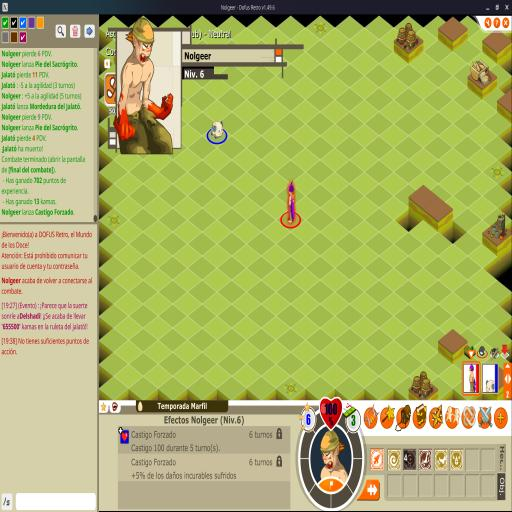Enemigos: (210, 120, 224, 139)
Personaje: (286, 180, 296, 224)
